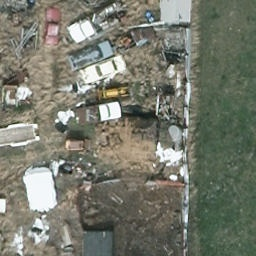car: (78, 54, 129, 83), (42, 8, 64, 50)
other: (66, 39, 114, 72)
pickup: (77, 104, 125, 126)
truck: (67, 4, 127, 46)
